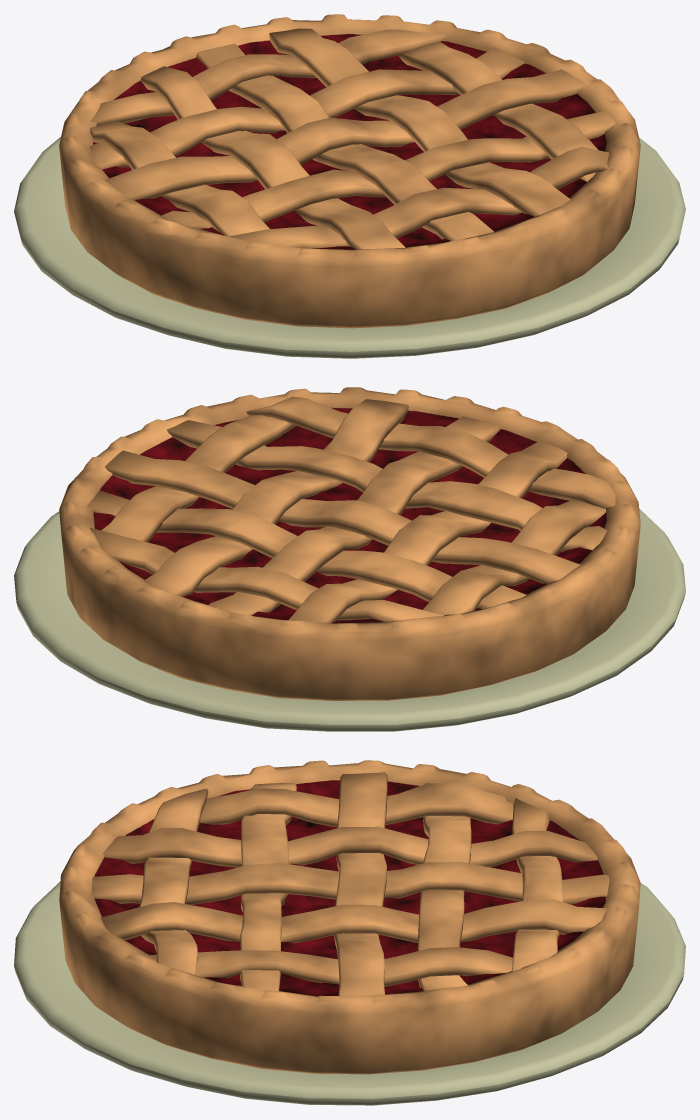
The model's file is tarta.glb.
The picture shows the model from 3 angles, top to bottom: view 1: azimuth 30°, elevation 25°; view 2: azimuth 150°, elevation 25°; view 3: azimuth 270°, elevation 25°; orthographic projection.
Visible parts, largest first — view 1: Pie_Top_Cross, Pie_Main, Pie_Plate; view 2: Pie_Top_Cross, Pie_Main, Pie_Plate; view 3: Pie_Top_Cross, Pie_Main, Pie_Plate.
Part boxes in pixels (x1,y1,x2,y2): Pie_Top_Cross: (89, 28, 615, 249); Pie_Main: (59, 14, 640, 328); Pie_Plate: (14, 137, 685, 358); Pie_Top_Cross: (86, 396, 615, 622); Pie_Main: (59, 387, 640, 700); Pie_Plate: (14, 509, 685, 731); Pie_Top_Cross: (91, 772, 609, 996); Pie_Main: (59, 760, 640, 1074); Pie_Plate: (14, 881, 685, 1105).
Bounding box in the file's own units: 34.68 × 6.61 × 34.69.
Materials: 2 (2 with a texture image).
